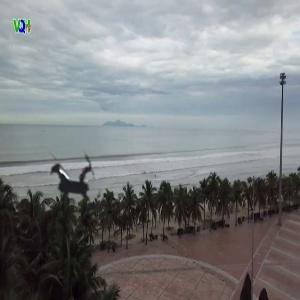drone: (18, 125, 140, 247)
